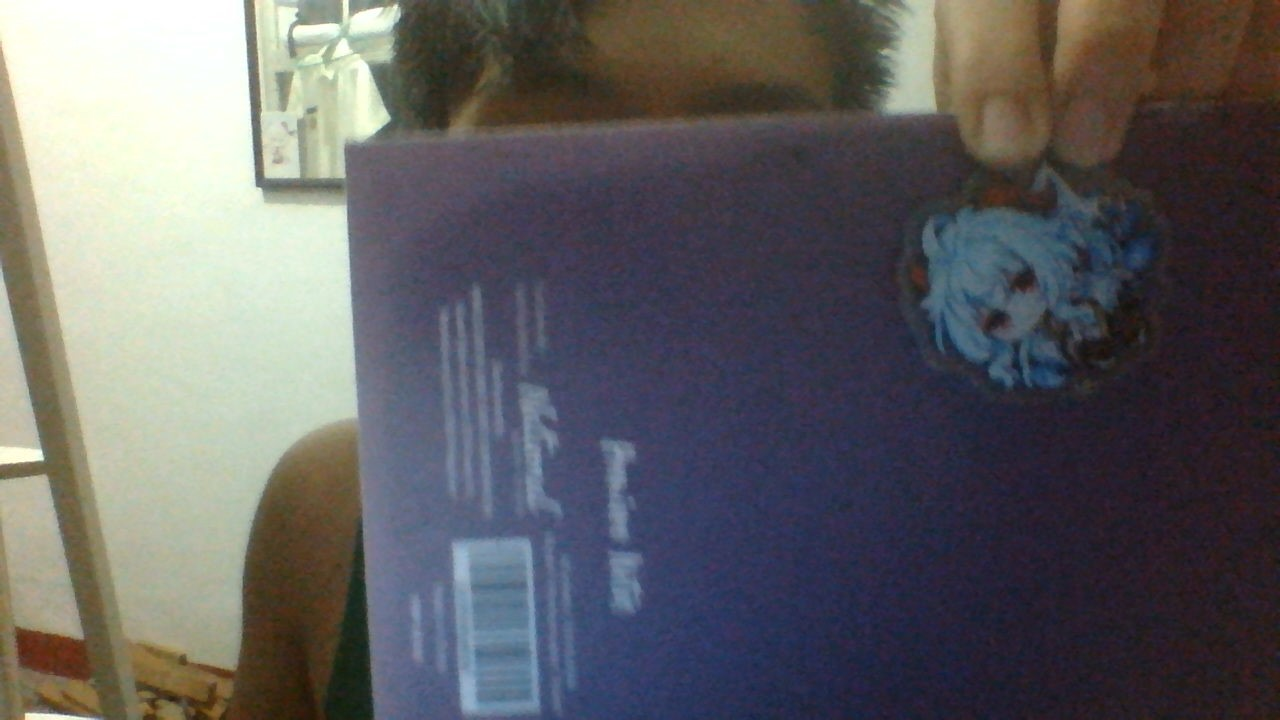Person: (862, 149, 1197, 408)
